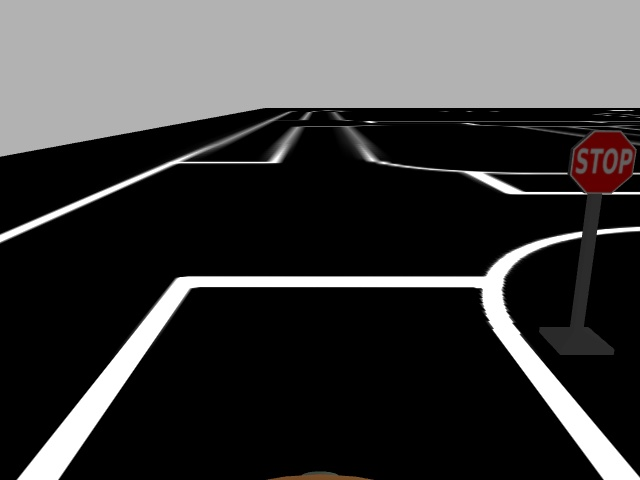stop: (563, 127, 638, 195)
